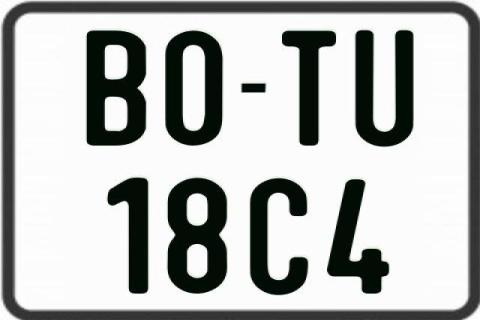0: (167, 177, 232, 295), (327, 178, 389, 294), (164, 31, 223, 149), (107, 175, 149, 292)
B: (87, 31, 150, 147)
C: (250, 178, 311, 296)
T: (281, 29, 338, 147)
U: (354, 28, 417, 149)
